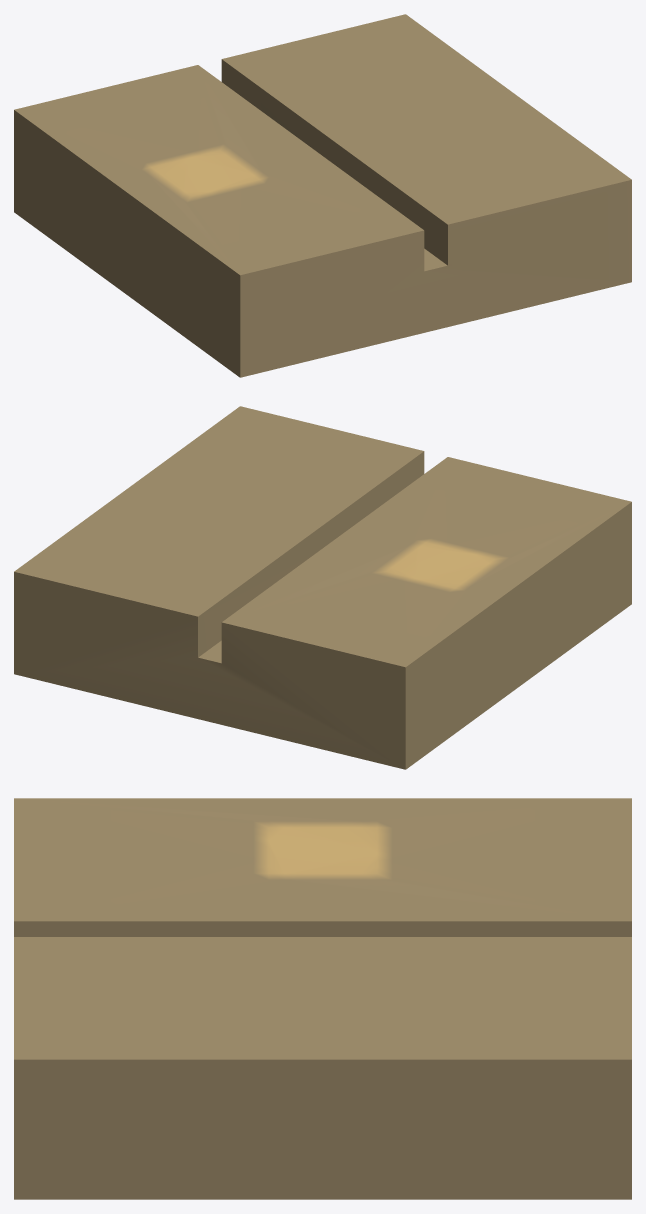
Rendered from slab.far.glb.
3 renders of one model, top to bottom at view 1: azimuth 30°, elevation 25°; view 2: azimuth 150°, elevation 25°; view 3: azimuth 270°, elevation 25°, orthographic. The views are drawn at different scales.
Parts seen in each view (by area): view 1: slab; view 2: slab; view 3: slab.
Part boxes in pixels (x1=…): slab: x1=14, y1=14, x2=631, y2=377; slab: x1=14, y1=406, x2=631, y2=769; slab: x1=14, y1=798, x2=631, y2=1199.
Size of the model in its own units: 2 by 0.5 by 2.
